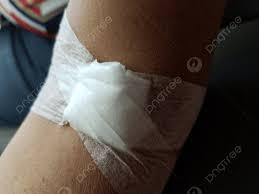Bandage: (32, 16, 205, 193)
